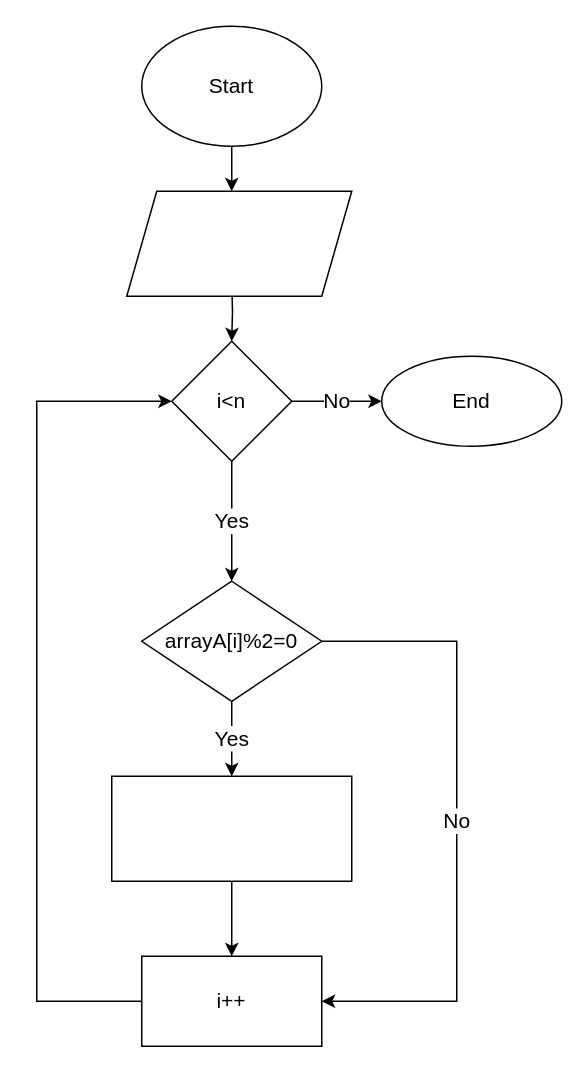
The diagram is 588 pixels wide and 1073 high, and some of its shapes have lost their labels. Each missing label, with the centre of its shape:
"arrayA[n] newarrayB[n] i=0 j=0" belongs at (x=238, y=243).
"newarrayB[j]=arrayA[i] j++" belongs at (x=231, y=828).
